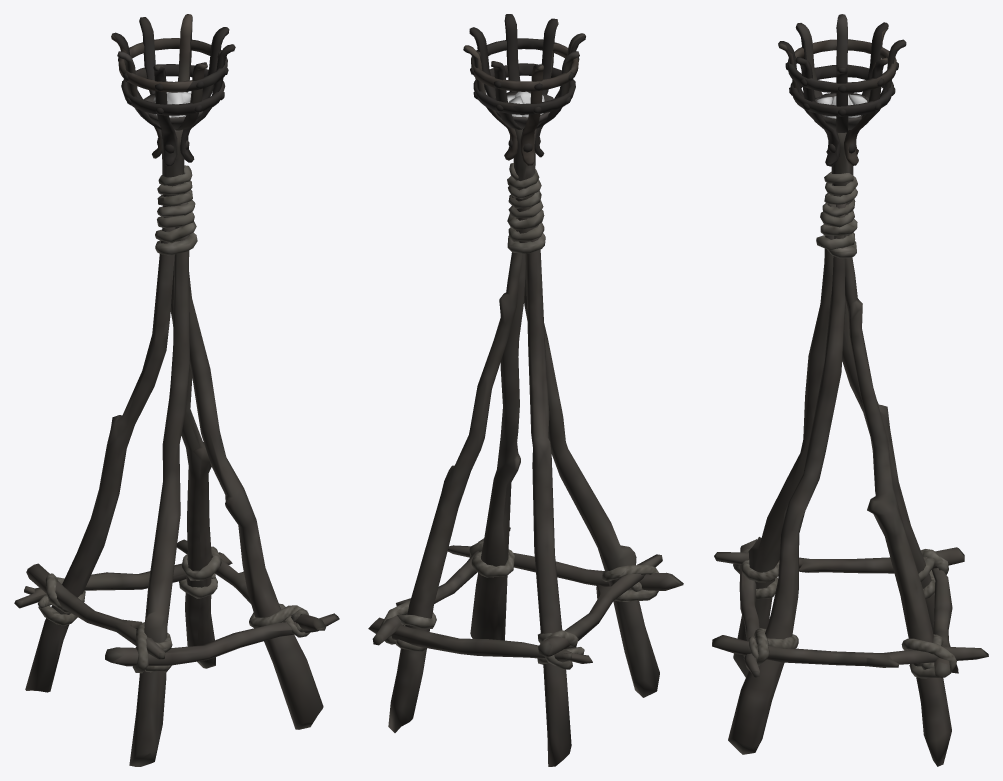
Rendered from Torch_01.fbx.
The picture shows the model from 3 angles, left to right: view 1: azimuth 30°, elevation 25°; view 2: azimuth 150°, elevation 25°; view 3: azimuth 270°, elevation 25°; orthographic projection.
Parts seen in each view (by area): view 1: Torch_01, Torch_01_Iron; view 2: Torch_01, Torch_01_Iron; view 3: Torch_01, Torch_01_Iron.
Part boxes in pixels (bbox=[...]): Torch_01: bbox=[14, 129, 339, 766]; Torch_01_Iron: bbox=[111, 14, 235, 166]; Torch_01: bbox=[368, 128, 683, 766]; Torch_01_Iron: bbox=[463, 14, 585, 165]; Torch_01: bbox=[712, 130, 988, 766]; Torch_01_Iron: bbox=[778, 14, 906, 166].
Size of what is drawn, in the model's own units: 92.42 by 255 by 93.28.
